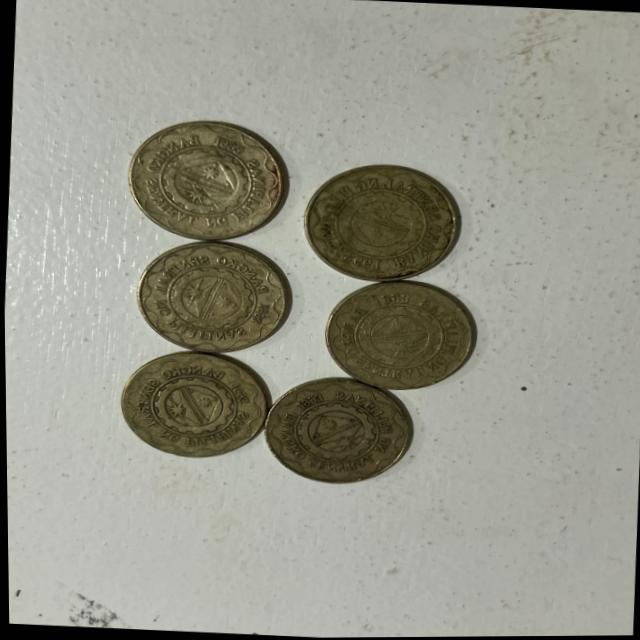5_Old_Back: (120, 113, 298, 247), (318, 277, 492, 398), (296, 162, 464, 287), (255, 371, 415, 490), (131, 237, 299, 348), (120, 346, 263, 466)
